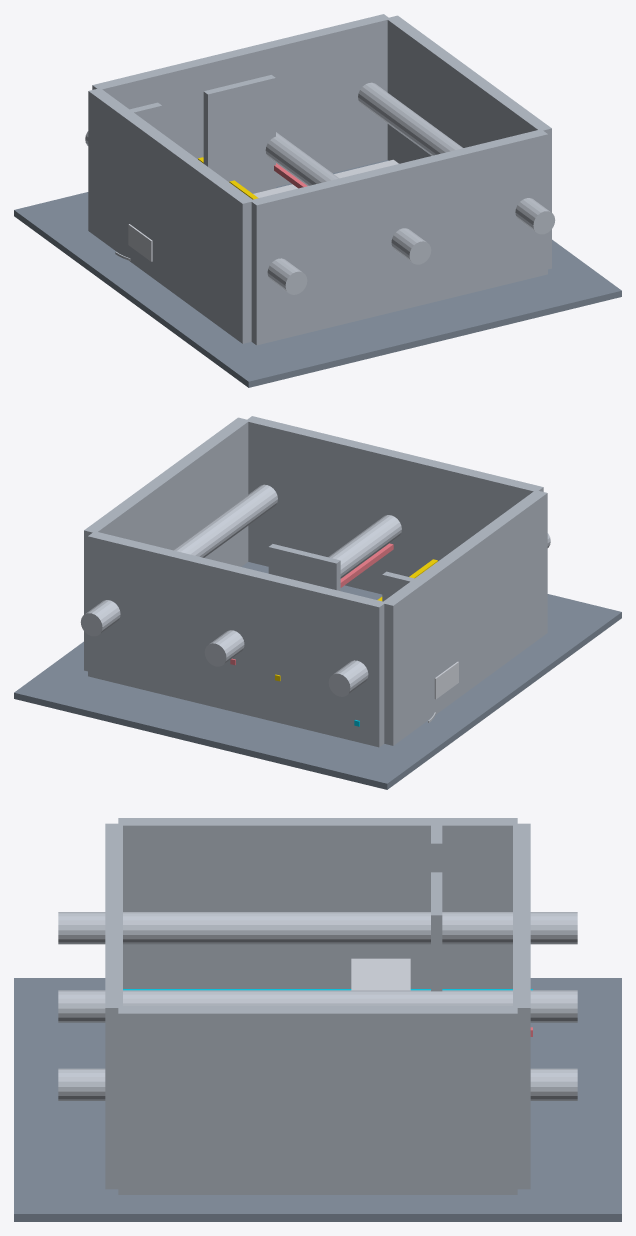
3 views of the same model, one above another, from view 1: azimuth 30°, elevation 25°; view 2: azimuth 150°, elevation 25°; view 3: azimuth 270°, elevation 25° (orthographic). The views are drawn at different scales.
Visible parts, largest first — view 1: wall_1, slab, wall_2, wall, wall_3, wall_5, col_6, col_7, col_4, col_2, col_5, col_8 (+2 smaller); view 2: wall, wall_1, slab, wall_2, wall_3, wall_5, col_7, col_5, col_8, col, col_3, col_6 (+3 smaller); view 3: wall_3, wall_2, slab, col_1, wall, wall_1, col, col_2, col_3, col_5, col_4, col_6 (+6 smaller).
Part boxes in pixels (box(x1,y1,x2,y2)): wall_1: box(250, 129, 547, 345); slab: box(14, 160, 621, 387); wall_2: box(88, 89, 252, 343); wall: box(92, 14, 389, 186); wall_3: box(386, 15, 551, 269); wall_5: box(203, 75, 275, 193); col_6: box(358, 82, 423, 136); col_7: box(395, 109, 463, 155); col_4: box(270, 140, 339, 185); col_2: box(267, 258, 307, 294); col_5: box(391, 228, 431, 264); col_8: box(515, 198, 555, 234); wall: box(88, 531, 385, 747); wall_1: box(246, 416, 543, 594); slab: box(14, 562, 621, 789); wall_2: box(382, 491, 547, 745); wall_3: box(84, 417, 248, 671); wall_5: box(268, 544, 340, 590); col_7: box(172, 512, 241, 557); col_5: box(334, 515, 401, 573); col_8: box(211, 484, 277, 540); col: box(328, 660, 368, 696); col_3: box(204, 630, 244, 666); col_6: box(80, 600, 120, 636); wall_3: box(118, 1006, 517, 1194); wall_2: box(118, 818, 517, 988); slab: box(14, 978, 621, 1221); col_1: box(218, 912, 417, 944); wall: box(513, 823, 530, 1189); wall_1: box(105, 823, 122, 1189); col: box(377, 912, 577, 944); col_2: box(58, 912, 258, 944); col_3: box(377, 990, 577, 1022); col_5: box(58, 990, 258, 1022); col_4: box(218, 990, 417, 1005); col_6: box(530, 1068, 577, 1100).
Size of the model in its own units: 7.35 by 2.75 by 8.
